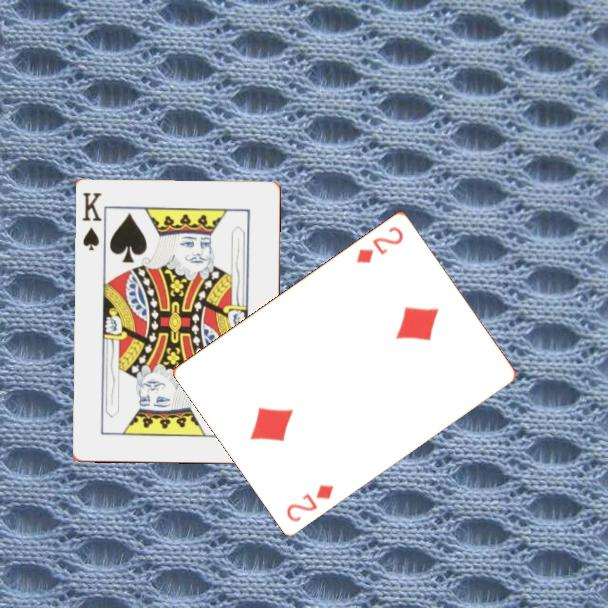d02: (283, 480, 336, 525), (353, 222, 406, 266)
s13: (79, 189, 105, 254)
